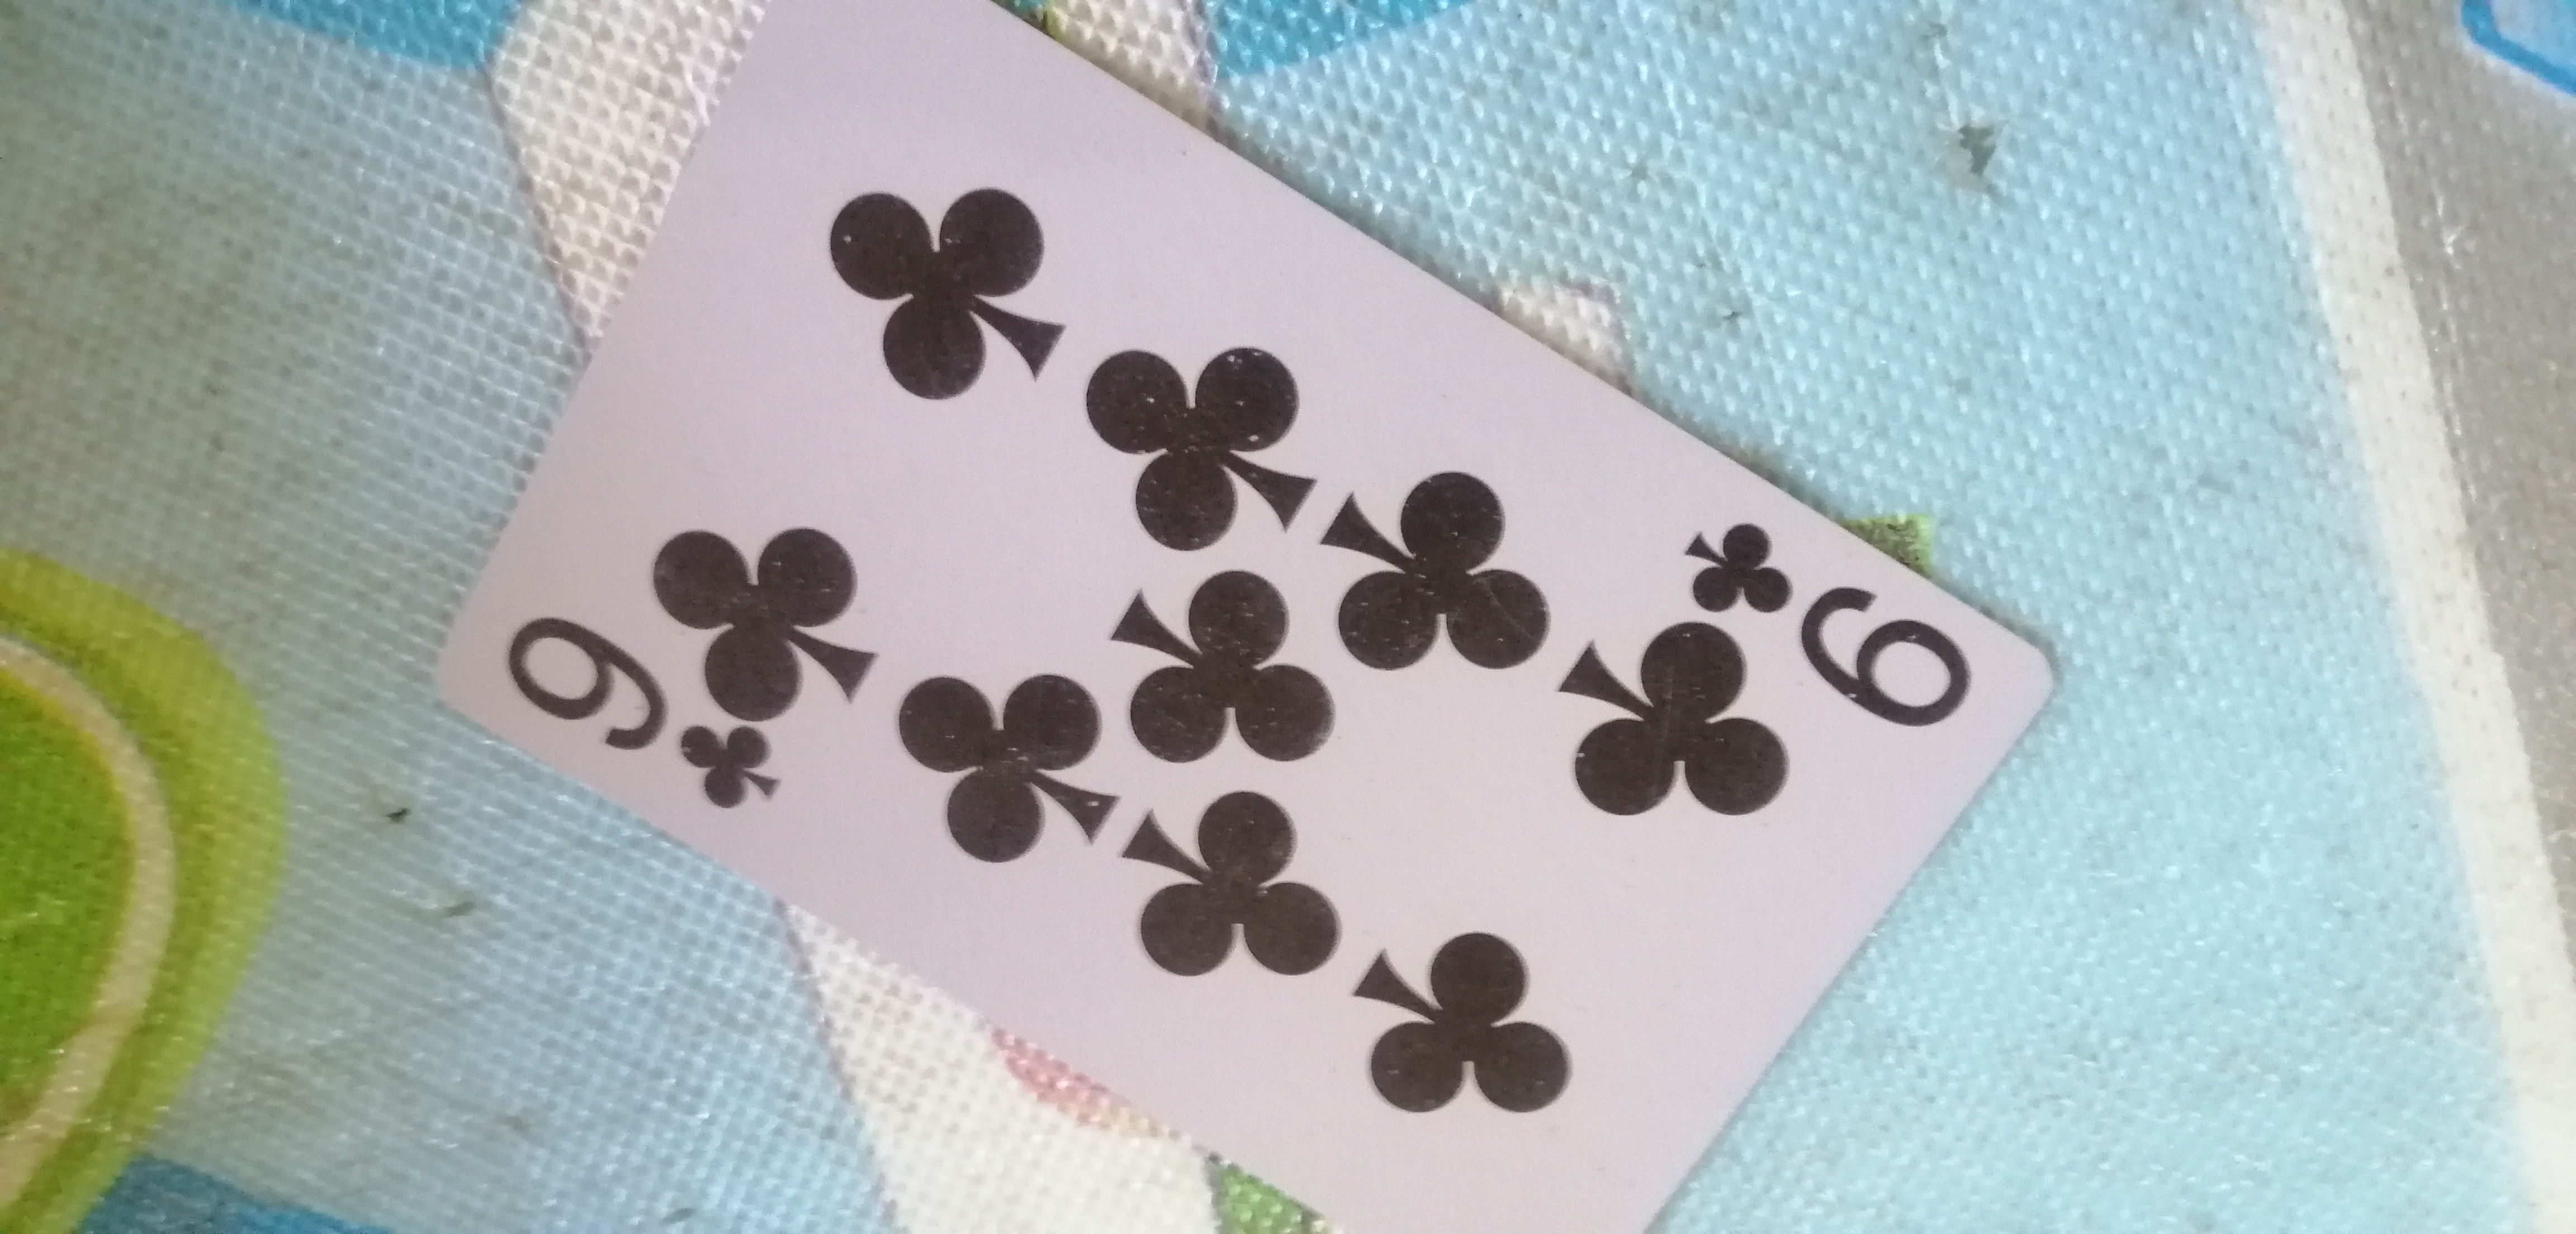nine: (462, 10, 2042, 1214)
